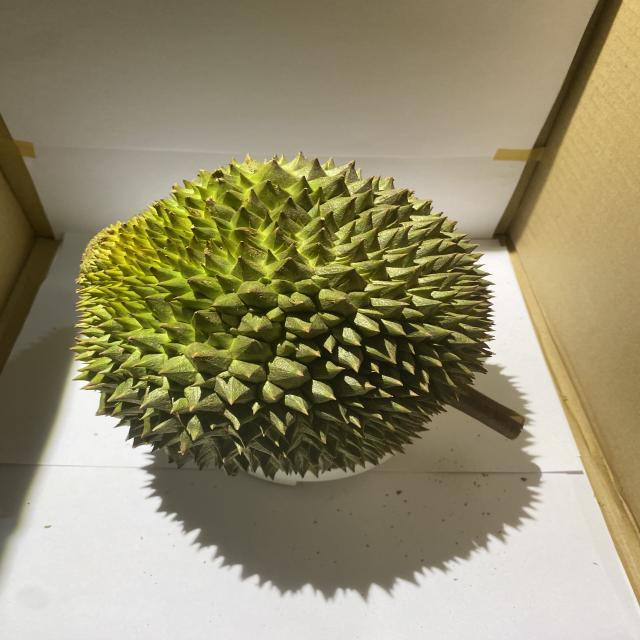immature: (71, 151, 496, 475)
